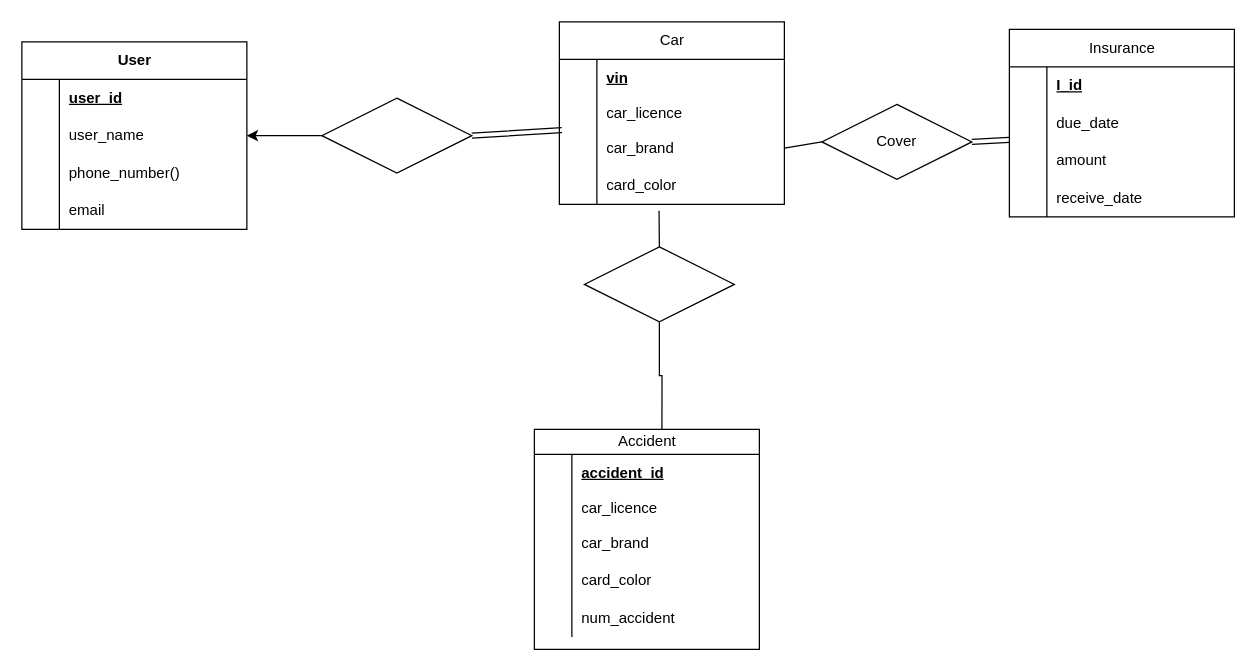
Some shapes in this 1256 by 671 pixel diagram are drawn without their labels. The centre of each missing label's shape, as x and y in pixels:
"Occur" belongs at (x=658, y=284).
"Own" belongs at (x=396, y=135).
